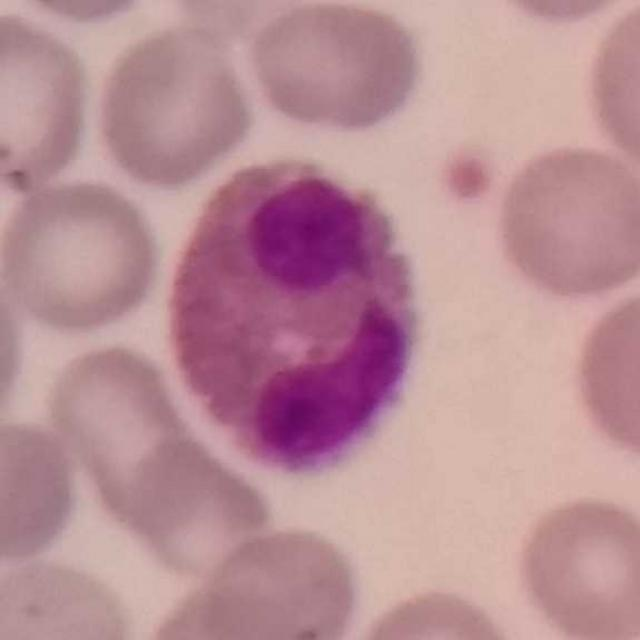Eosinophil: (162, 152, 448, 488)
Platelets: (445, 150, 496, 209)
RBC: (39, 335, 211, 543), (89, 20, 259, 191), (0, 174, 167, 338), (242, 0, 428, 139), (489, 137, 639, 304), (164, 521, 368, 640), (508, 489, 640, 640), (0, 7, 99, 196), (0, 412, 86, 576), (565, 280, 640, 468), (132, 575, 343, 640), (0, 552, 144, 640), (334, 581, 530, 640), (579, 0, 640, 183), (155, 0, 314, 39), (0, 255, 29, 440), (477, 0, 640, 28), (3, 0, 170, 27)
